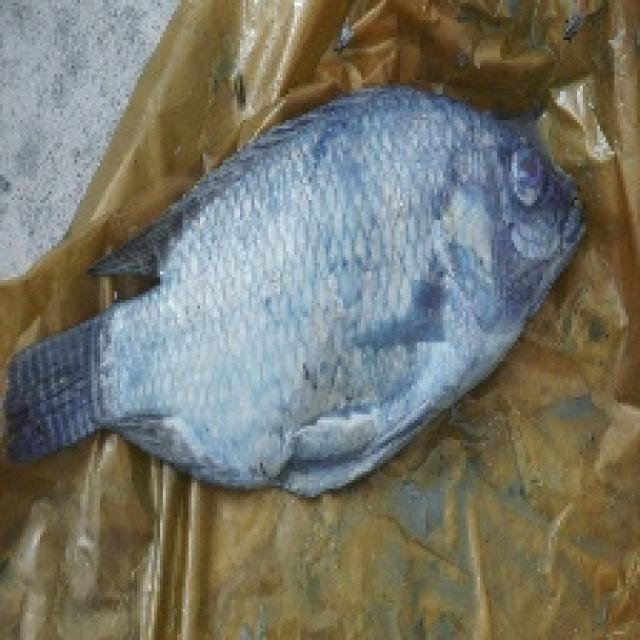Non-Fresh: (146, 82, 597, 466), (496, 133, 554, 222)
